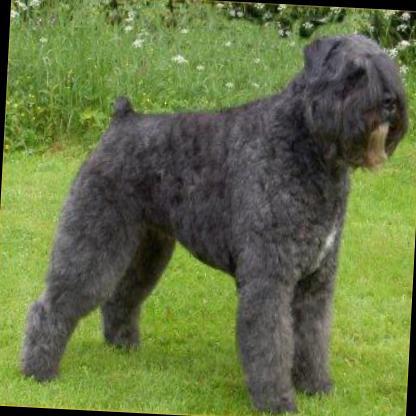Bouvier_des_Flandres: (9, 12, 416, 416)
